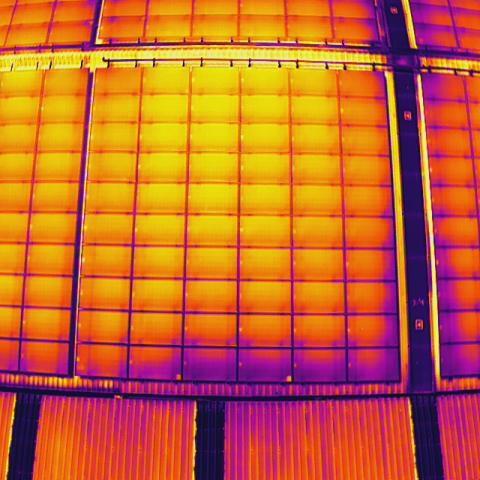fault: (74, 363, 86, 373), (284, 373, 294, 384), (174, 372, 183, 382)
